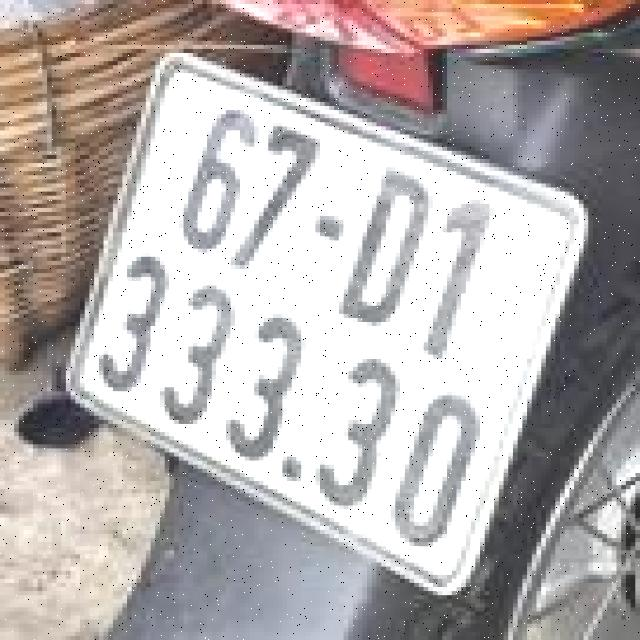0: (398, 393, 487, 564)
1: (438, 186, 498, 377)
3: (322, 338, 398, 518), (167, 269, 238, 432), (92, 247, 167, 398), (247, 308, 308, 462)
6: (181, 84, 261, 267)
7: (242, 114, 327, 265)
D: (332, 149, 440, 340)
